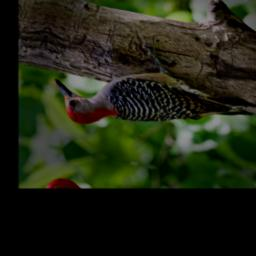Woodpecker: (39, 15, 256, 164)
